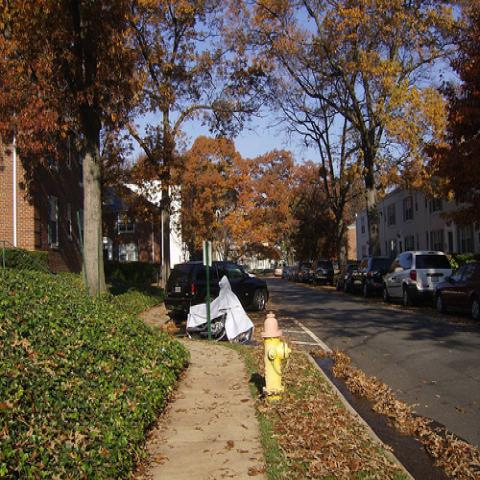car: (162, 259, 270, 322), (382, 251, 453, 307), (435, 261, 479, 319), (349, 255, 393, 298), (307, 260, 335, 286), (336, 264, 359, 292), (297, 263, 313, 282), (281, 267, 296, 280), (274, 266, 284, 277)
motorcycle: (189, 316, 252, 344)
truck: (167, 259, 271, 324)
